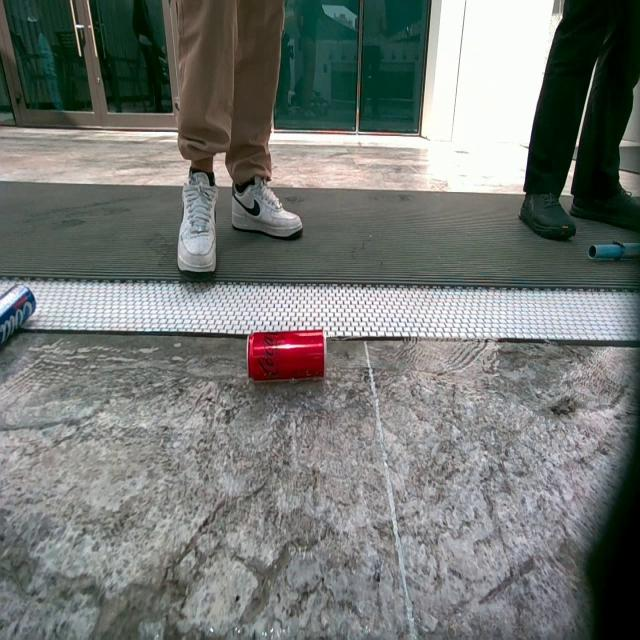Cans: (249, 334, 326, 386), (0, 273, 34, 359)
